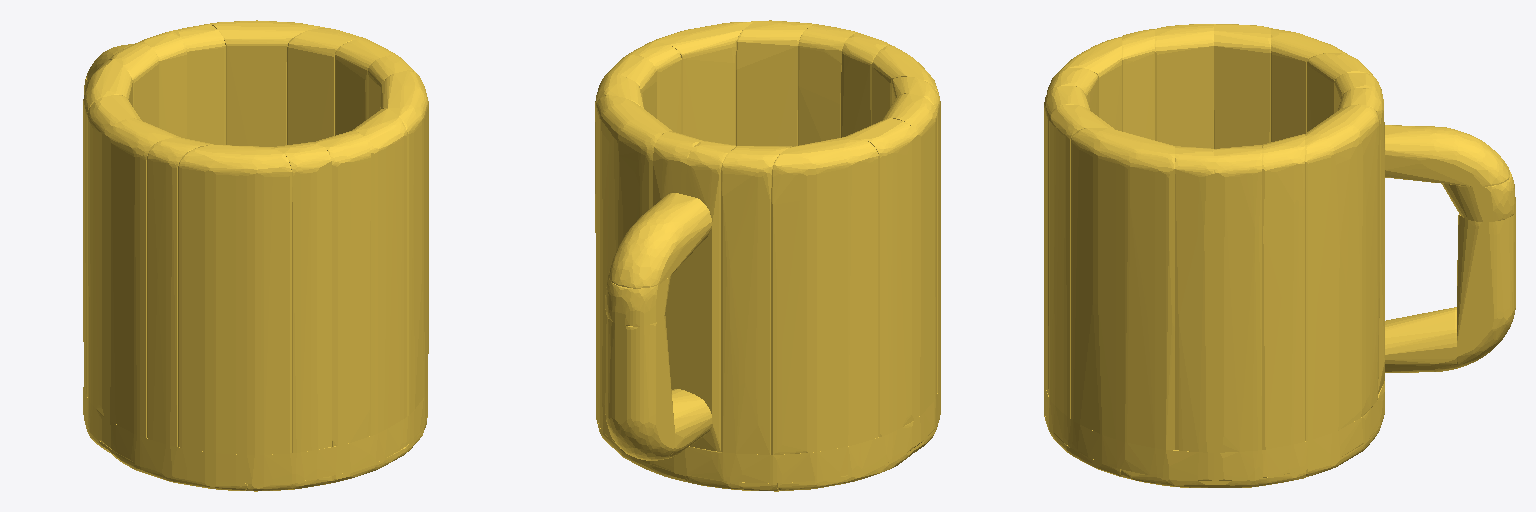
robot.urdf — 71.urdf:
<?xml version="1.0" ?>
<robot name="71.urdf">
	<link name="baseLink">
		<inertial>
			<origin rpy="0 0 0" xyz="0 0 0"/>
				<mass value="0.1"/>
				<inertia ixx="6e-5" ixy="0" ixz="0" iyy="6e-5" iyz="0" izz="6e-5"/>
		</inertial>
		<visual>
			<origin rpy="0 0 0" xyz="0 0 0"/>
			<geometry>
				<mesh filename="12_decom_wt.obj" scale="1.05 1.05 0.87"/>
			</geometry>
			<material name="yellow">
				<color rgba="0.98 0.84 0.35 1"/>
			</material>
		</visual>
		<collision>
			<origin rpy="0 0 0" xyz="0 0 0"/>
			<geometry>
				<mesh filename="12_decom_wt.obj" scale="1.05 1.05 0.87"/>
			</geometry>
		</collision>
	</link>
</robot>

--- Facts derived from the render (not from the file) ---
Views: 3 orthographic renders of the robot side by side, from view 1: azimuth 30°, elevation 25°; view 2: azimuth 150°, elevation 25°; view 3: azimuth 270°, elevation 25°.
Model 71.urdf with 1 links and 0 joints (none), rooted at baseLink, posed all joints at 0.
Links seen in each view (by area): view 1: baseLink; view 2: baseLink; view 3: baseLink.
Boxes of the visible links, bbox=[...] form: baseLink: bbox=[83, 20, 428, 491]; baseLink: bbox=[595, 20, 940, 491]; baseLink: bbox=[1044, 24, 1515, 487].
Bounding box of the posed robot: 0.1033 × 0.143 × 0.1109 m (x, y, z).
1 mesh visuals loaded from 1 distinct referenced files (1 OBJ).